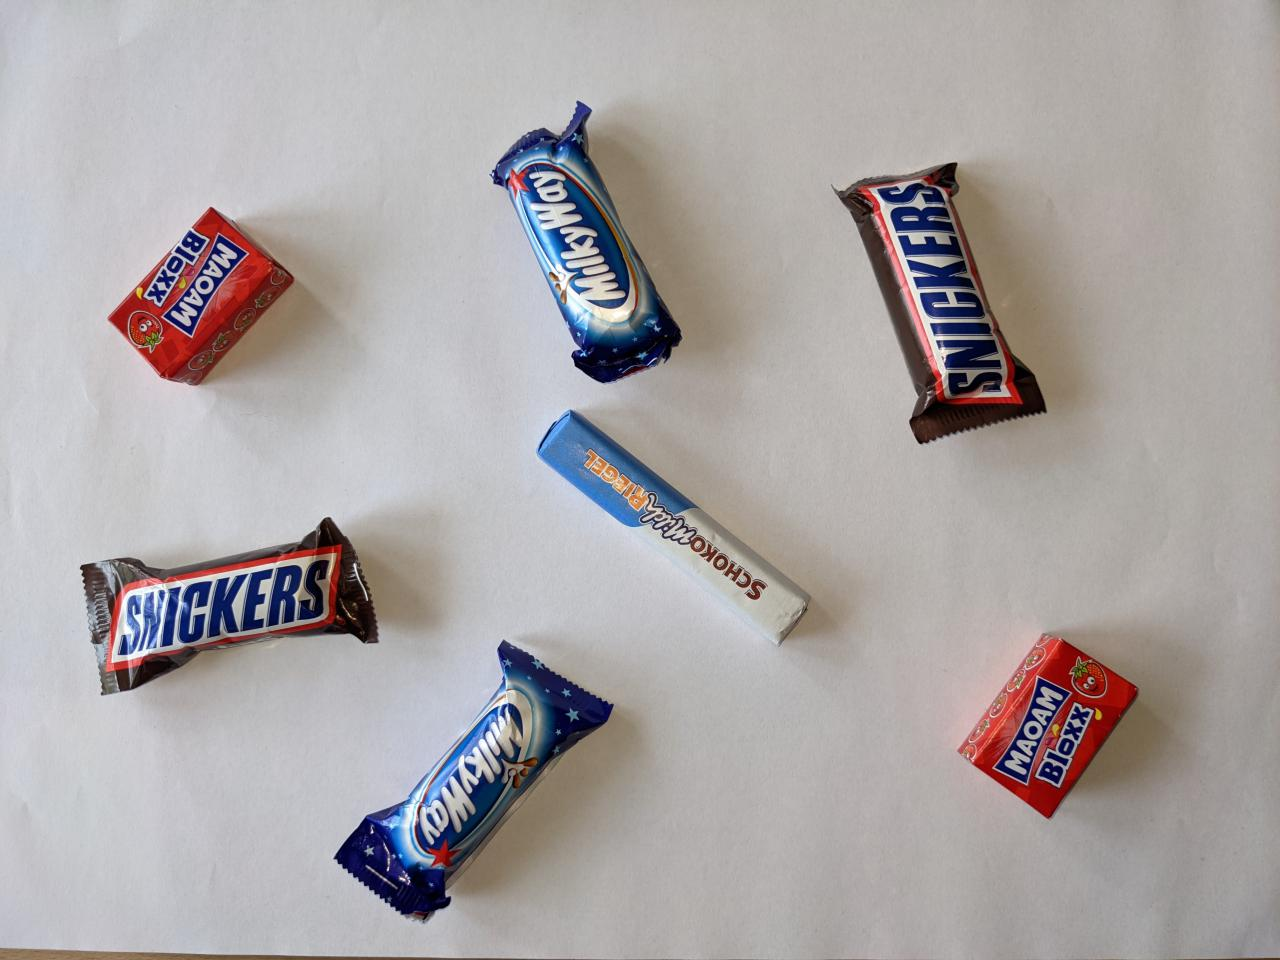MAOAM: (951, 619, 1146, 829), (102, 196, 306, 391)
MilkyWay: (328, 632, 622, 929), (481, 94, 688, 388)
Schokoriegel: (530, 405, 818, 653)
Snickers: (824, 154, 1057, 455), (73, 511, 387, 702)
